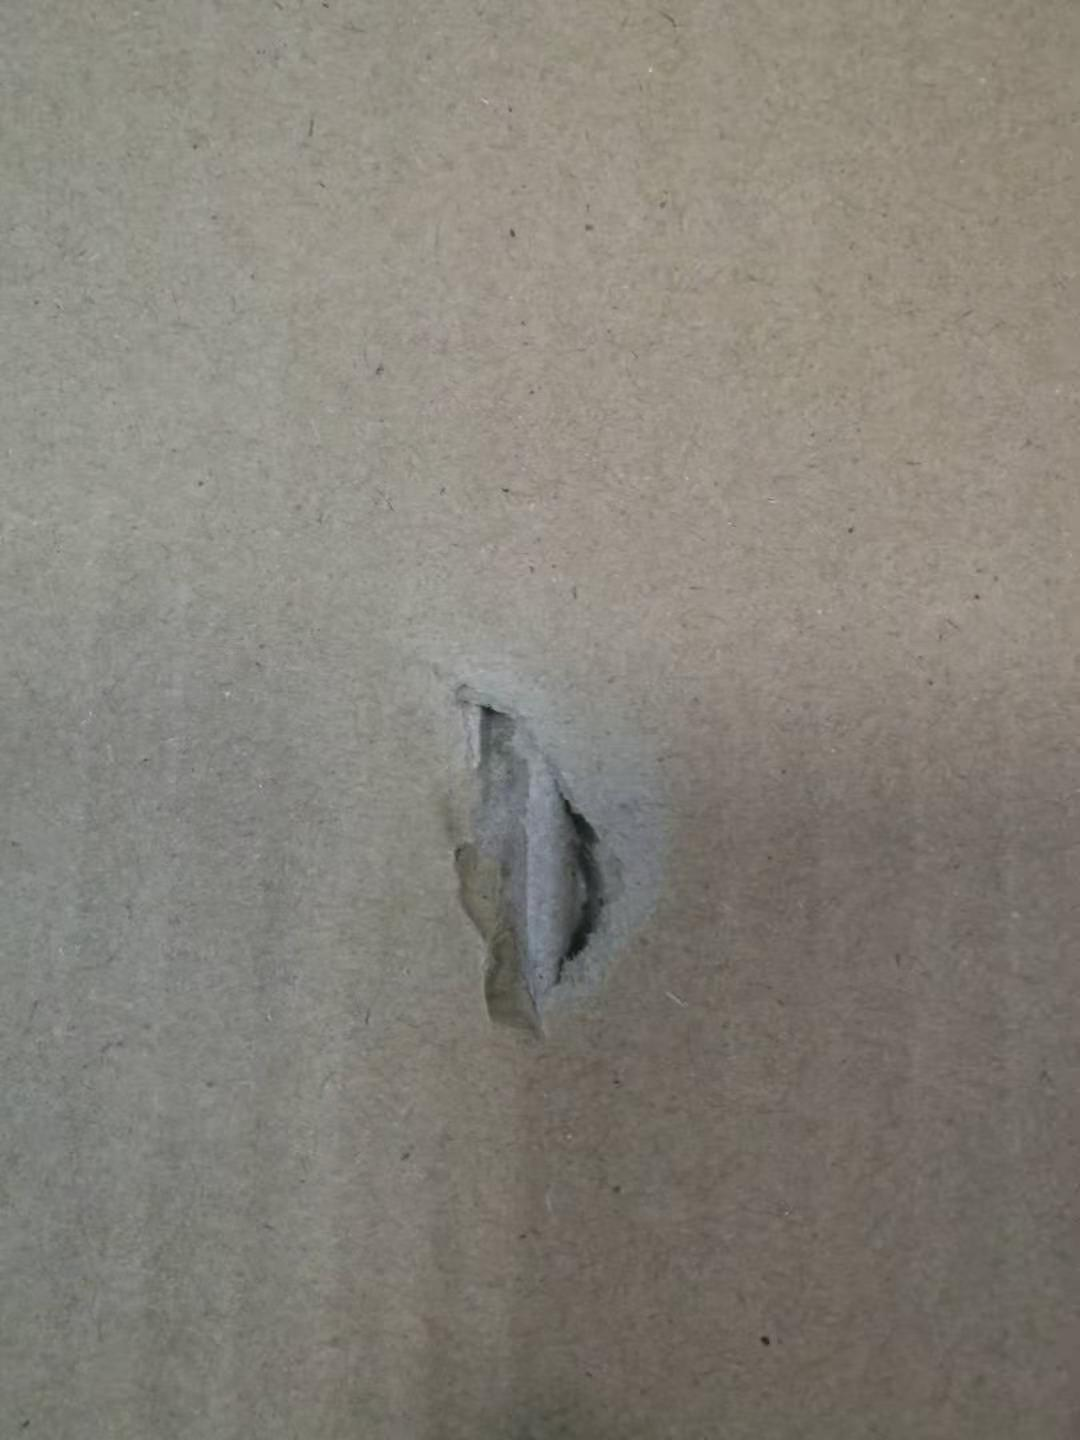defect: (388, 592, 708, 1068)
